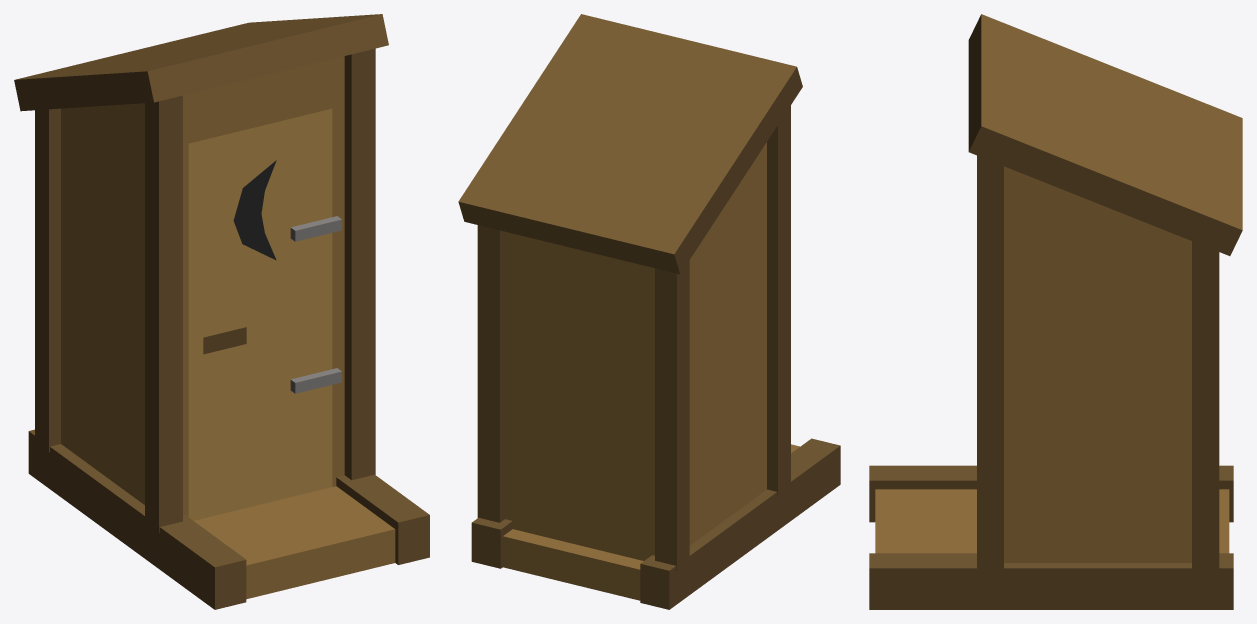
Rendered from SA_Bld_Outhouse_01.gltf.
3 renders of one model, left to right at view 1: azimuth 30°, elevation 25°; view 2: azimuth 150°, elevation 25°; view 3: azimuth 270°, elevation 25°, orthographic. The views are drawn at different scales.
Parts seen in each view (by area): view 1: SA_Bld_Outhouse_01; view 2: SA_Bld_Outhouse_01; view 3: SA_Bld_Outhouse_01.
Part boxes in pixels (bbox=[...]): SA_Bld_Outhouse_01: bbox=[14, 14, 429, 609]; SA_Bld_Outhouse_01: bbox=[458, 14, 840, 609]; SA_Bld_Outhouse_01: bbox=[869, 14, 1242, 609].
Size of the model in its own units: 2.3 by 4.67 by 3.24.
1 material, 1 textured.
